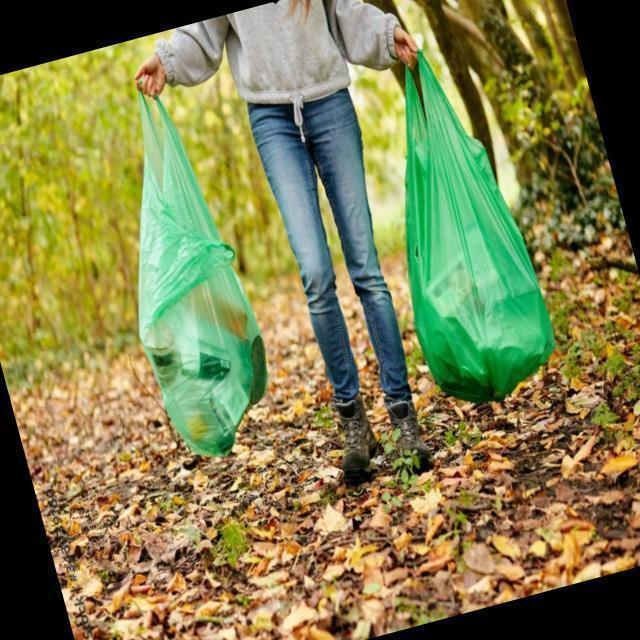Plastic_Bag: (347, 34, 578, 428)
